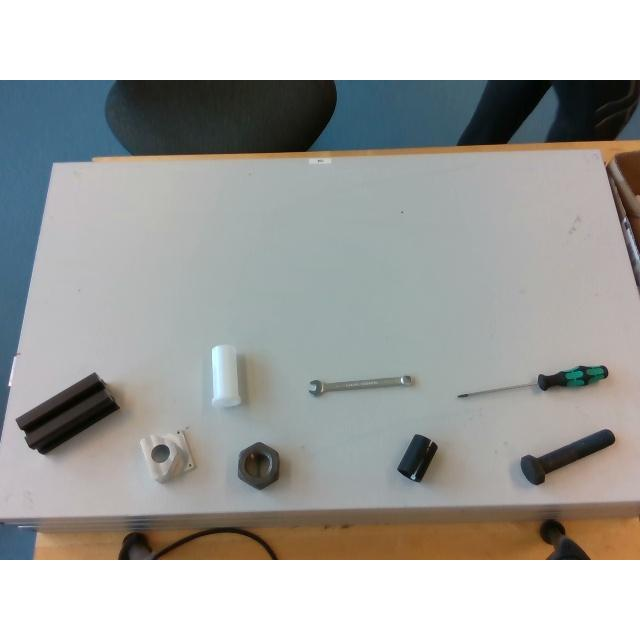M20_100: (522, 428, 614, 484)
M30: (238, 442, 278, 488)
S40_40_B: (16, 373, 118, 453)
Screwdriver: (457, 365, 607, 397)
Spacer: (211, 346, 241, 406)
